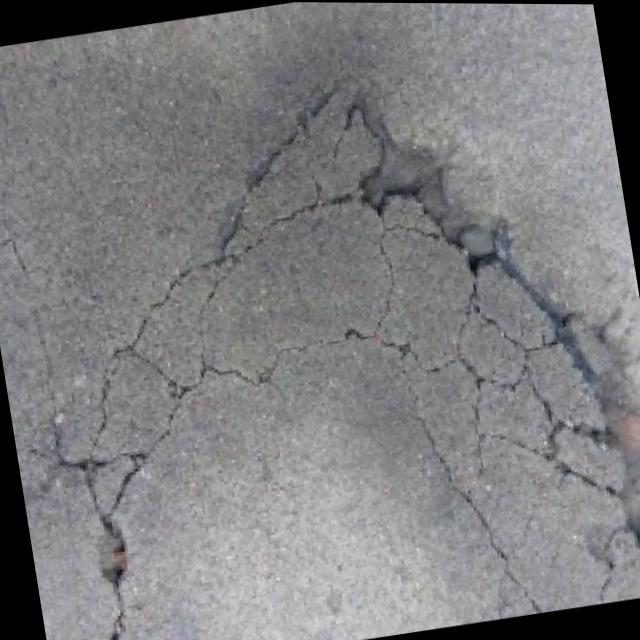Crack: (2, 28, 640, 640)
